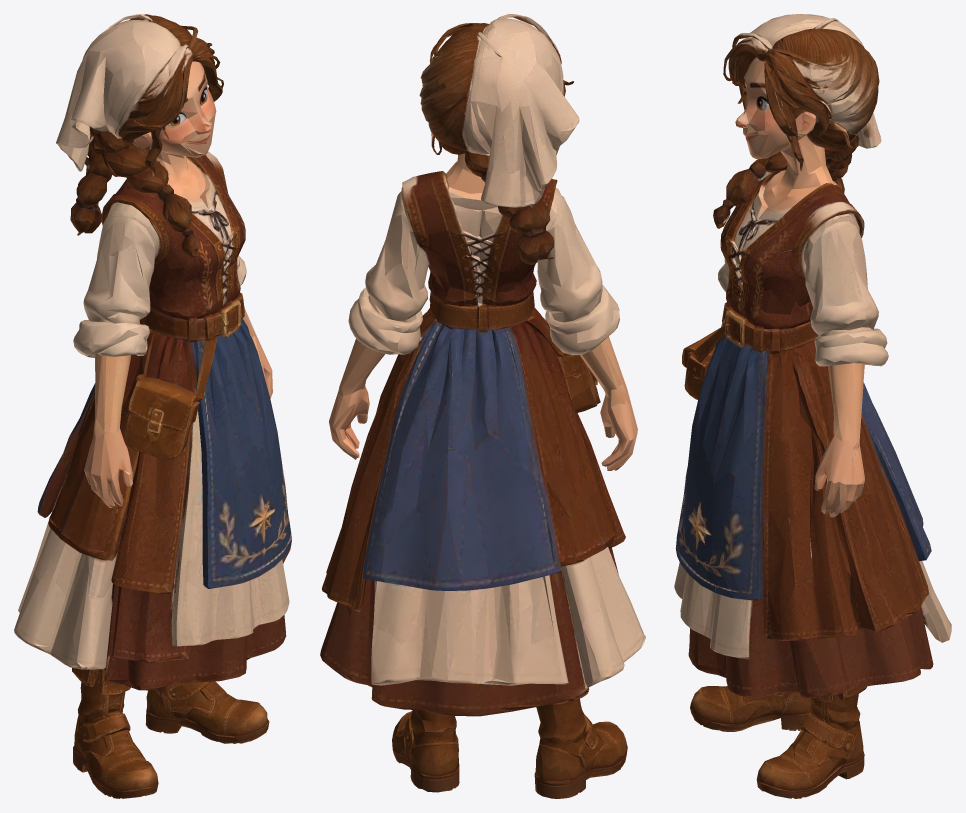
Rendered from villager_woman.glb.
3 views of the same model, side by side, from view 1: azimuth 30°, elevation 25°; view 2: azimuth 150°, elevation 25°; view 3: azimuth 270°, elevation 25° (orthographic). The views are drawn at different scales.
Parts seen in each view (by area): view 1: output_unwrapped; view 2: output_unwrapped; view 3: output_unwrapped.
Part boxes in pixels (bbox=[...]): output_unwrapped: bbox=[14, 14, 291, 798]; output_unwrapped: bbox=[320, 14, 645, 798]; output_unwrapped: bbox=[674, 14, 951, 798].
Size of the model in its own units: 0.7283 by 1.9 by 0.655.
1 material, 1 textured.
